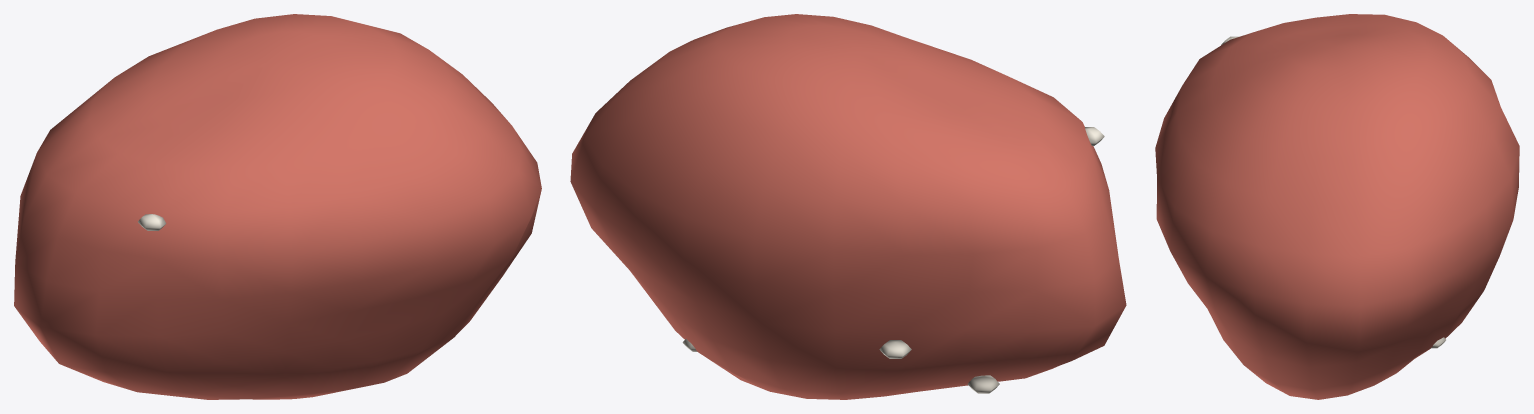
Rendered from nd_potato.glb.
3 views of the same model, side by side, from view 1: azimuth 30°, elevation 25°; view 2: azimuth 150°, elevation 25°; view 3: azimuth 270°, elevation 25° (orthographic). The views are drawn at different scales.
Parts seen in each view (by area): view 1: PART; view 2: PART; view 3: PART.
Part boxes in pixels (x1,y1,x2,y2): PART: [14, 14, 541, 399]; PART: [570, 14, 1126, 399]; PART: [1155, 14, 1519, 399].
Bounding box in the file's own units: 0.1484 × 0.0944 × 0.1.
